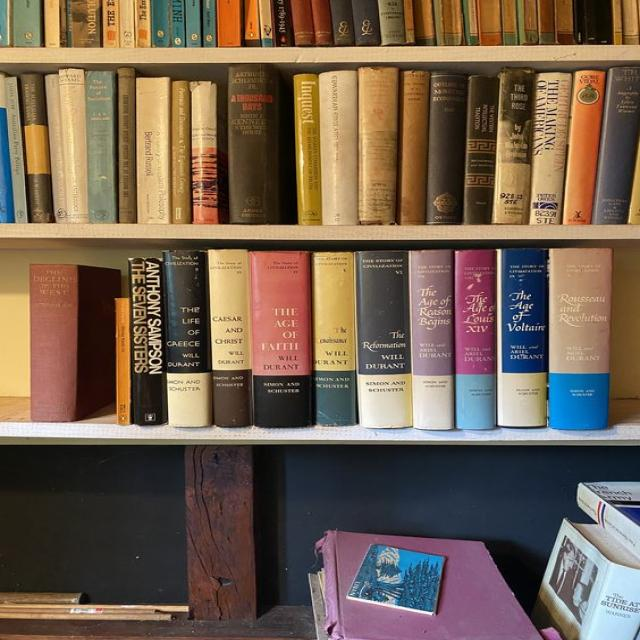book: (252, 251, 312, 427), (355, 251, 413, 427), (552, 250, 609, 428), (498, 248, 546, 428), (410, 251, 454, 430), (164, 251, 208, 427), (230, 66, 278, 224), (207, 249, 249, 426), (314, 252, 356, 426), (30, 264, 76, 419), (594, 69, 640, 224), (456, 252, 496, 429), (562, 71, 606, 223), (426, 69, 469, 223), (493, 68, 535, 223), (319, 71, 359, 225), (532, 72, 572, 224), (358, 66, 396, 222), (130, 257, 162, 425), (465, 76, 500, 224), (398, 69, 431, 224), (58, 69, 89, 224), (136, 78, 169, 223), (19, 73, 51, 222), (86, 71, 116, 223), (294, 75, 321, 223), (192, 82, 218, 224), (5, 76, 27, 223), (171, 80, 190, 222), (119, 67, 135, 223), (114, 298, 129, 424)
